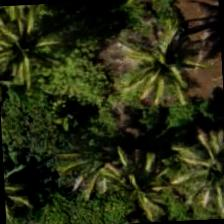Kelapa_Sawit: (114, 24, 208, 119), (93, 142, 189, 223), (0, 2, 67, 95), (169, 128, 223, 221)
